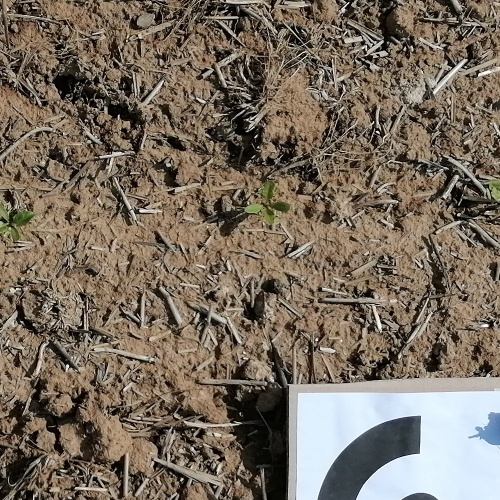beet: (245, 181, 290, 224), (0, 206, 36, 241), (492, 179, 500, 200)
